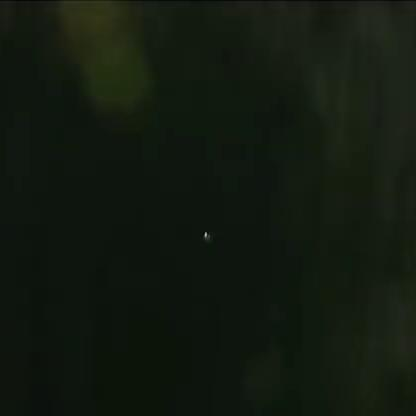golfball: (201, 231, 214, 242)
